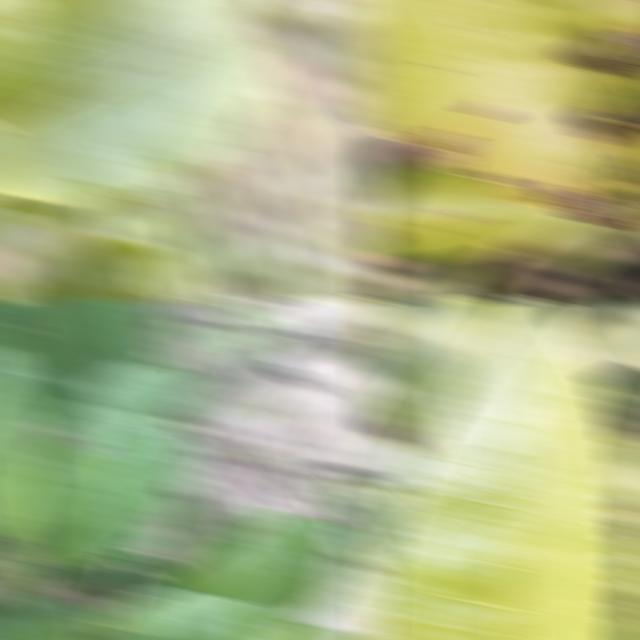Leaf: (365, 298, 639, 640), (362, 0, 640, 227), (0, 0, 276, 208), (27, 361, 215, 569), (179, 510, 353, 640), (362, 160, 579, 259), (377, 298, 513, 439), (5, 233, 192, 302), (12, 298, 127, 405), (0, 323, 84, 431), (93, 586, 259, 640), (0, 344, 43, 539), (169, 490, 242, 587), (542, 219, 637, 276), (387, 253, 492, 302), (0, 590, 94, 640), (106, 298, 165, 367), (332, 485, 380, 567), (572, 326, 640, 382), (112, 551, 193, 597), (24, 614, 98, 640), (271, 622, 360, 640), (0, 545, 26, 594), (612, 199, 640, 221)
